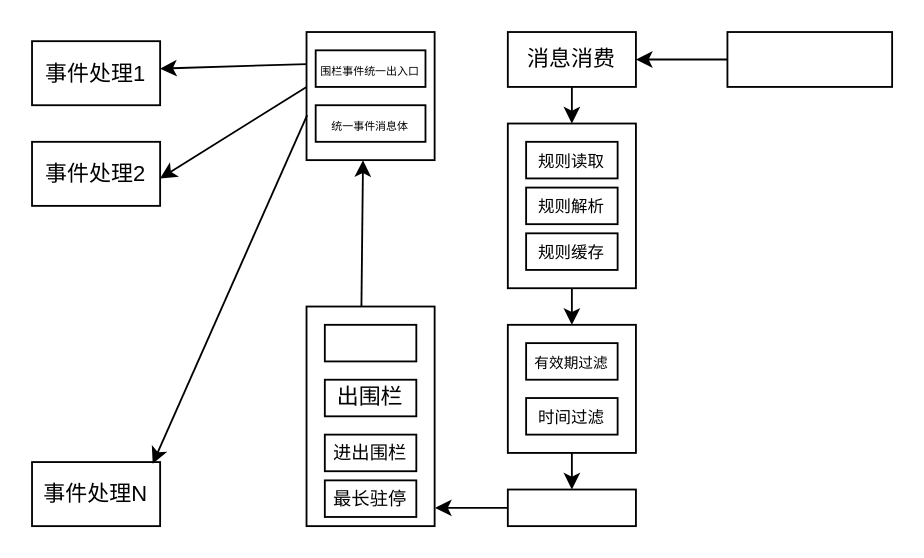
The diagram is 924 pixels wide and 558 high, and some of its shapes have lost their labels. Each missing label, with the centre of its shape:
人员定位消息: the point at 809,58
类型分发: the point at 571,507
进围栏: the point at 369,342
